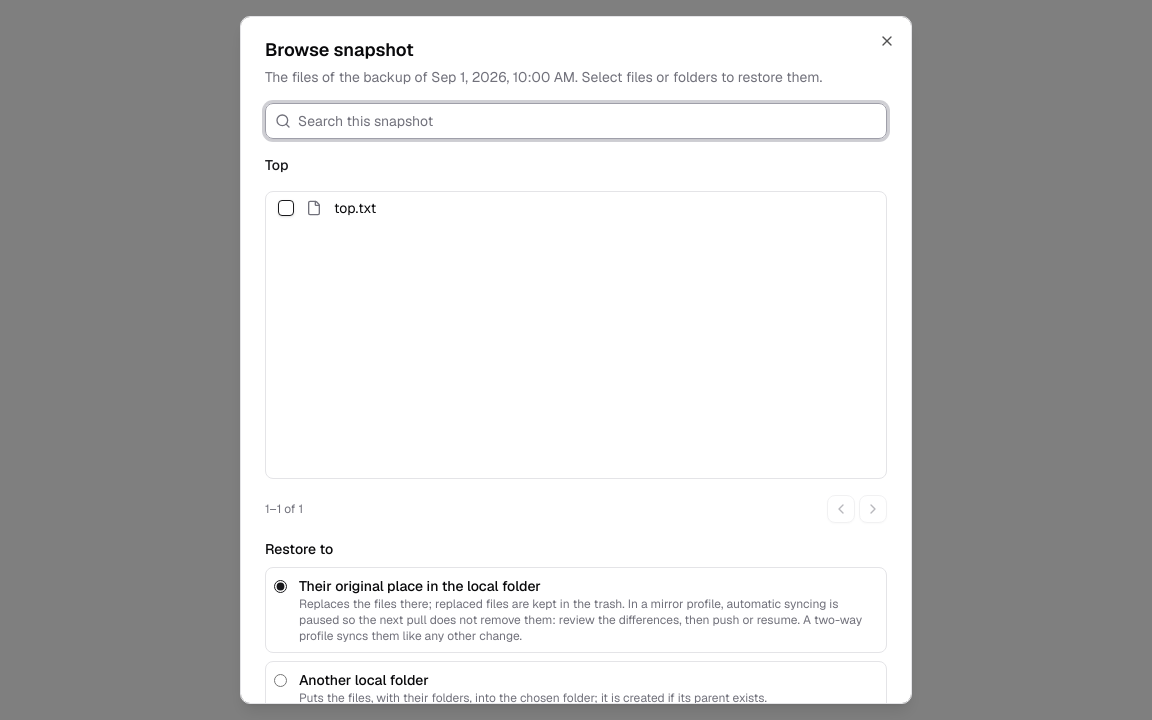
Test case: SnapshotBrowser selection and restore › unselects and clears the selection
Click the checkbox named "Select top.txt".
click(286, 208)  # box [278,200,294,216]
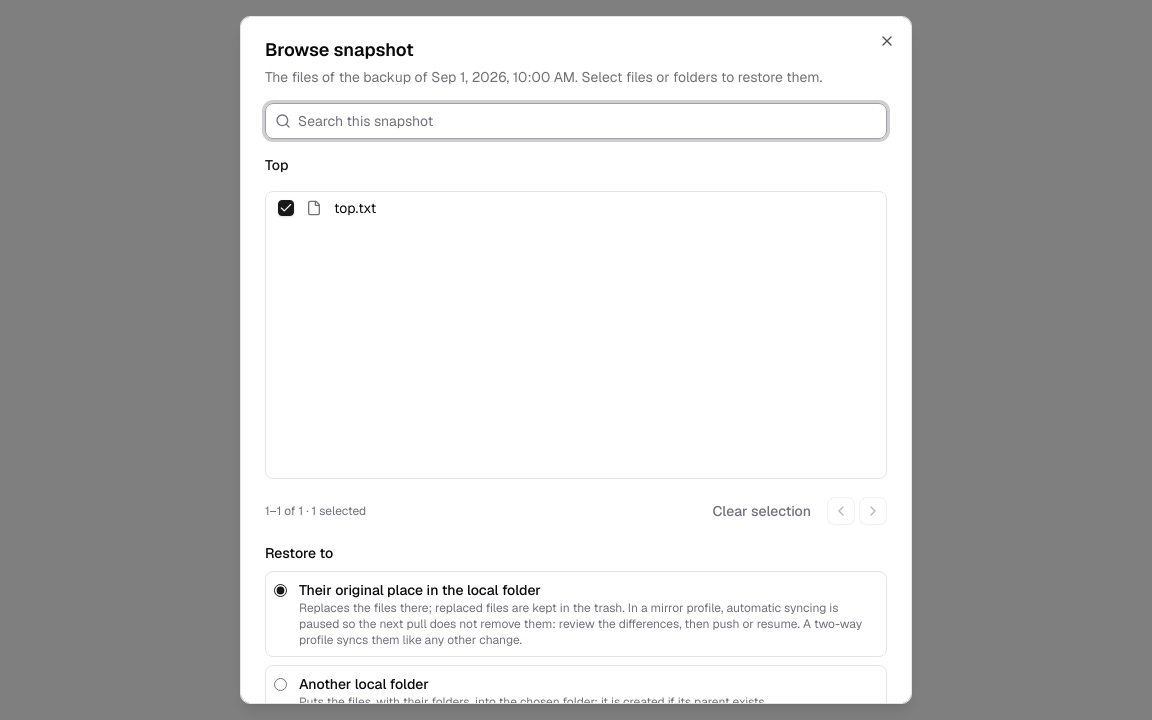
Result: the dialog "Browse snapshot" shows "1 selected" at [312,503,366,519]
Click the checkbox named "Select top.txt".
click(286, 208)  # box [278,200,294,216]
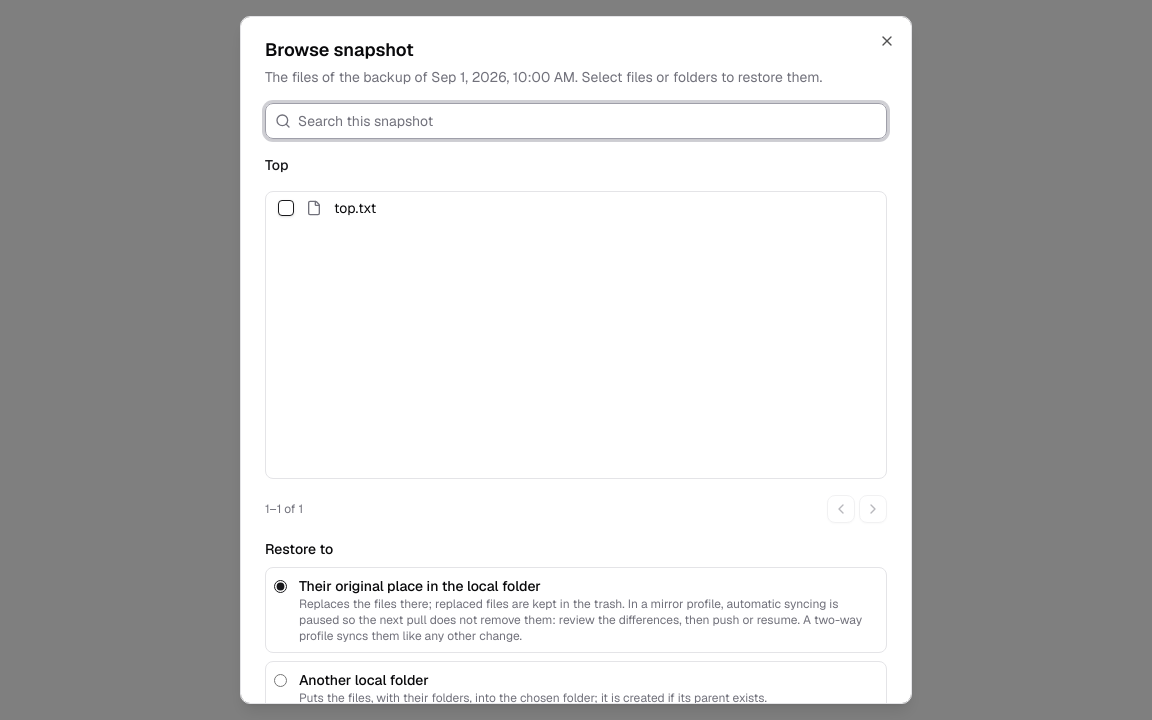
Result: the dialog "Browse snapshot" no longer shows "1 selected" at [240,16,912,704]
Click the checkbox named "Select top.txt".
click(286, 208)  # box [278,200,294,216]
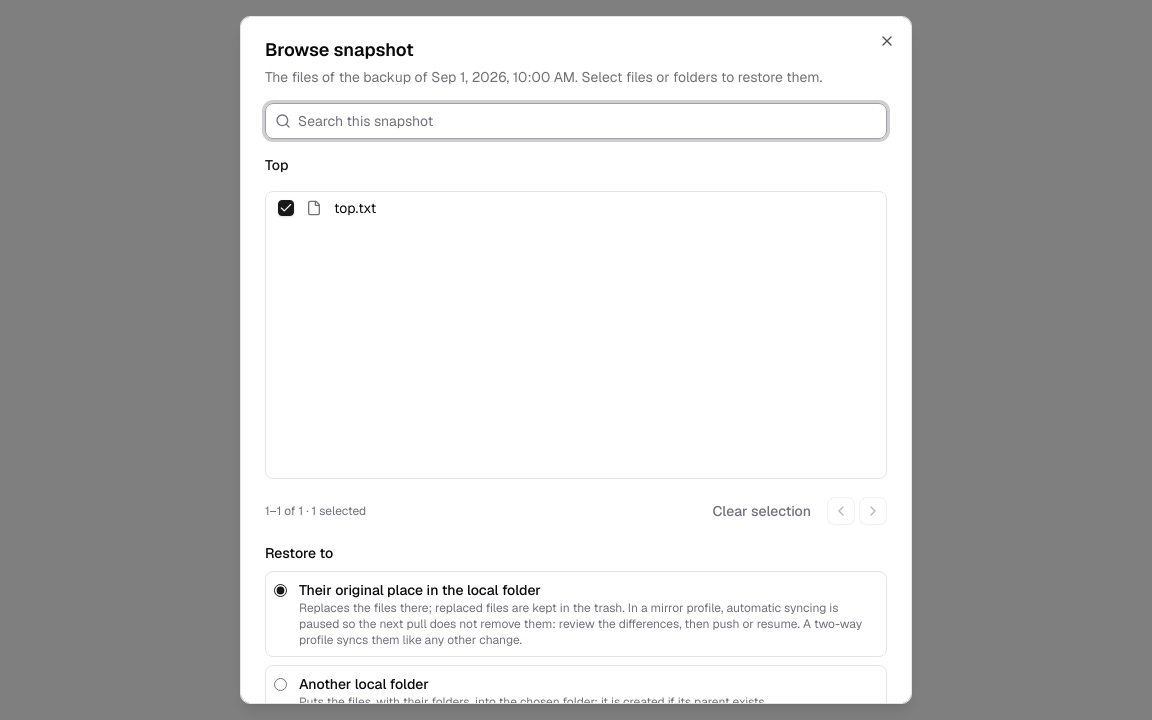
Click the button "Clear selection".
click(762, 511)  # box [700,495,823,527]
(page scrolled)
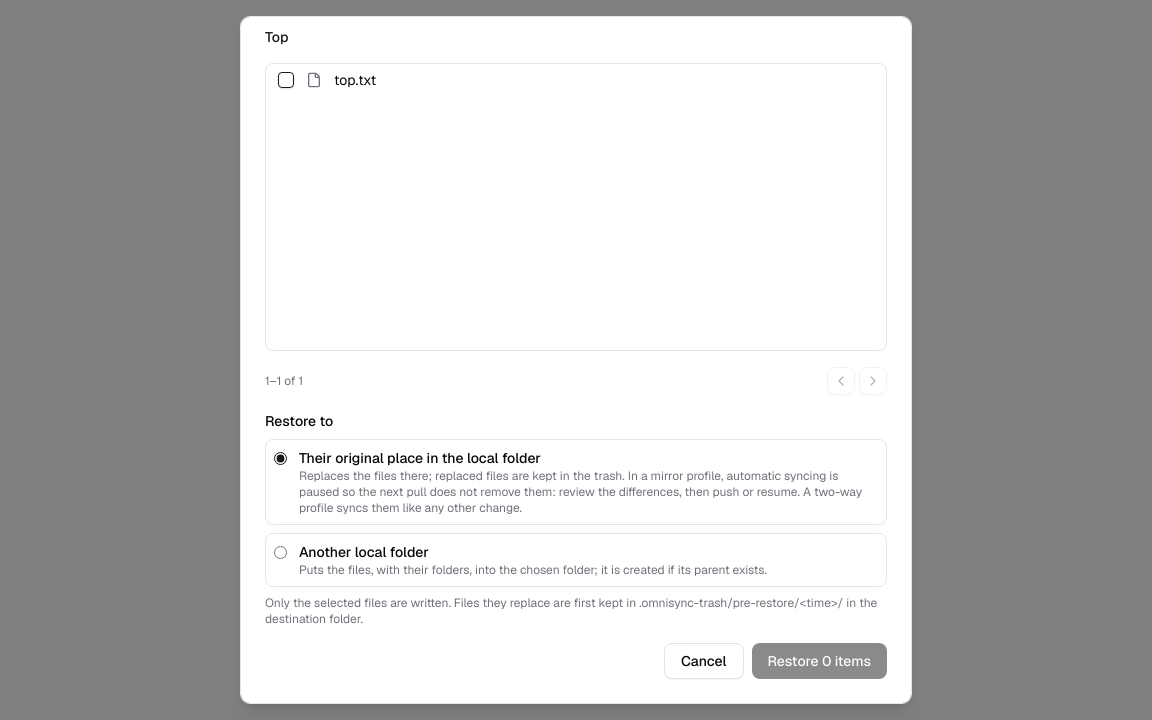
Result: the button "Restore 0 items" is disabled at [752,643,887,679]
